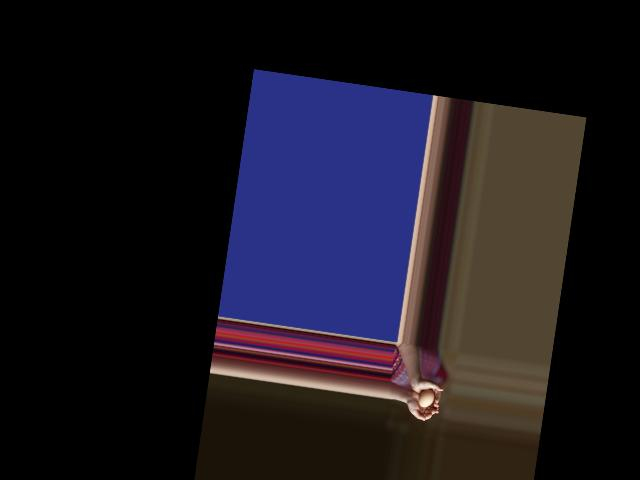egg: (418, 388, 436, 408)
